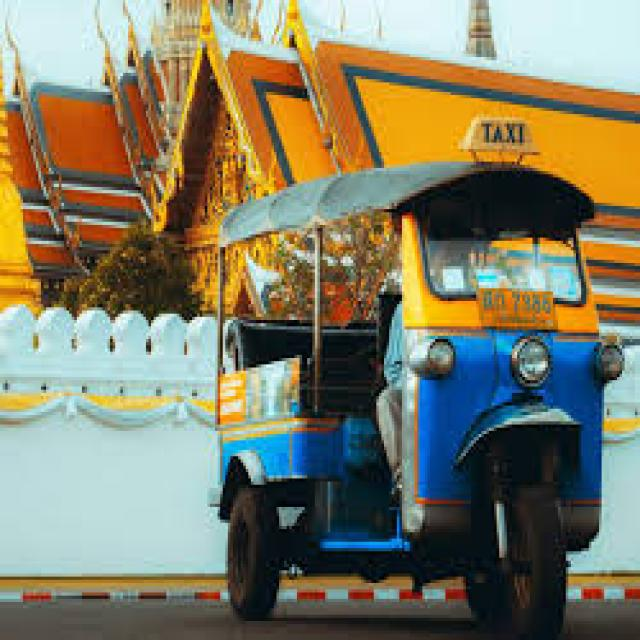tuktuk: (176, 106, 611, 640)
